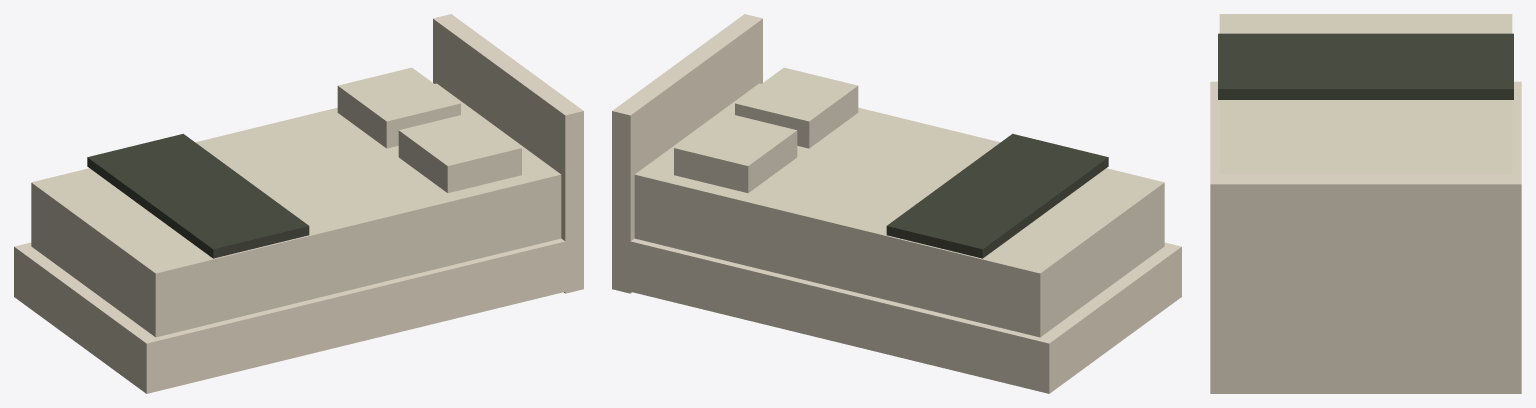
The model's file is bed.glb.
3 views of the same model, side by side, from view 1: azimuth 30°, elevation 25°; view 2: azimuth 150°, elevation 25°; view 3: azimuth 270°, elevation 25° (orthographic). The views are drawn at different scales.
Visible parts, largest first — view 1: REF-L02-R01-bed-part-2, REF-L02-R01-bed-part-1, REF-L02-R01-bed-part-3, REF-L02-R01-bed-part-6, REF-L02-R01-bed-part-5, REF-L02-R01-bed-part-4; view 2: REF-L02-R01-bed-part-2, REF-L02-R01-bed-part-1, REF-L02-R01-bed-part-6, REF-L02-R01-bed-part-3, REF-L02-R01-bed-part-4, REF-L02-R01-bed-part-5; view 3: REF-L02-R01-bed-part-3, REF-L02-R01-bed-part-2, REF-L02-R01-bed-part-6, REF-L02-R01-bed-part-4, REF-L02-R01-bed-part-5, REF-L02-R01-bed-part-1.
Boxes of the visible parts, <box> form: REF-L02-R01-bed-part-2: <box>31,83,561,337</box>; REF-L02-R01-bed-part-1: <box>14,238,565,393</box>; REF-L02-R01-bed-part-3: <box>433,14,583,293</box>; REF-L02-R01-bed-part-6: <box>87,133,309,258</box>; REF-L02-R01-bed-part-5: <box>398,112,521,192</box>; REF-L02-R01-bed-part-4: <box>337,67,460,148</box>; REF-L02-R01-bed-part-2: <box>634,83,1164,337</box>; REF-L02-R01-bed-part-1: <box>612,237,1181,393</box>; REF-L02-R01-bed-part-6: <box>886,133,1108,258</box>; REF-L02-R01-bed-part-3: <box>612,14,762,293</box>; REF-L02-R01-bed-part-4: <box>674,112,797,192</box>; REF-L02-R01-bed-part-5: <box>735,67,858,148</box>; REF-L02-R01-bed-part-3: <box>1210,174,1521,393</box>; REF-L02-R01-bed-part-2: <box>1219,14,1512,173</box>; REF-L02-R01-bed-part-6: <box>1218,33,1513,99</box>; REF-L02-R01-bed-part-4: <box>1380,151,1495,173</box>; REF-L02-R01-bed-part-5: <box>1236,151,1351,173</box>; REF-L02-R01-bed-part-1: <box>1210,81,1521,173</box>.
Size of the model in its own units: 0.5905 by 0.23 by 0.31.
